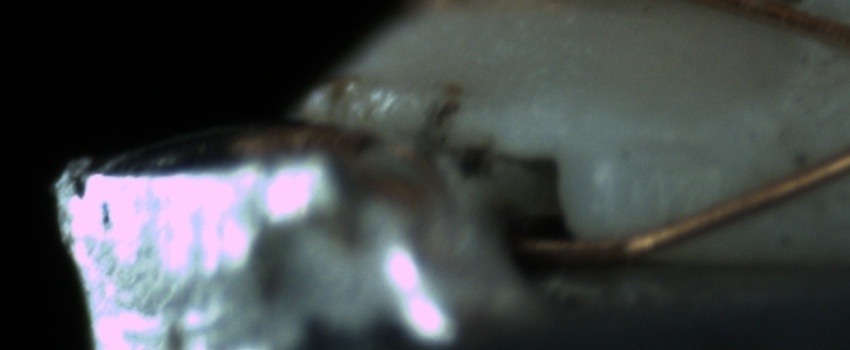DL: (601, 112, 724, 175)
